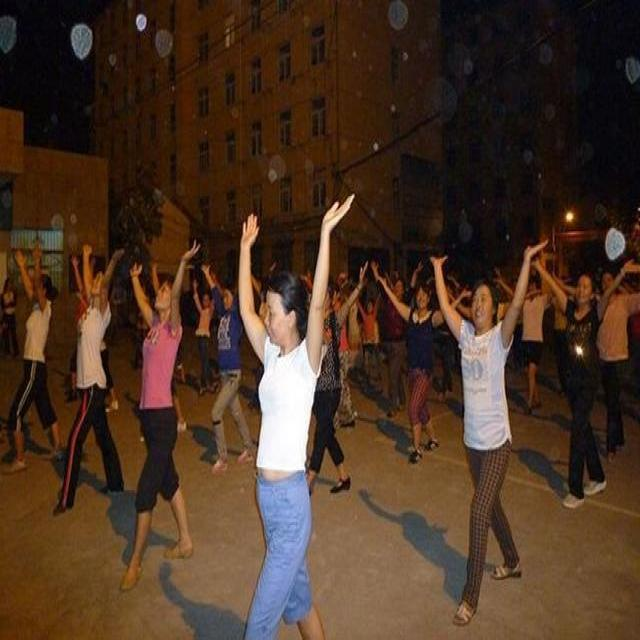non-fight: (228, 192, 356, 640), (120, 207, 198, 594), (451, 243, 524, 632), (57, 248, 126, 514), (557, 265, 610, 507), (384, 249, 440, 464)
